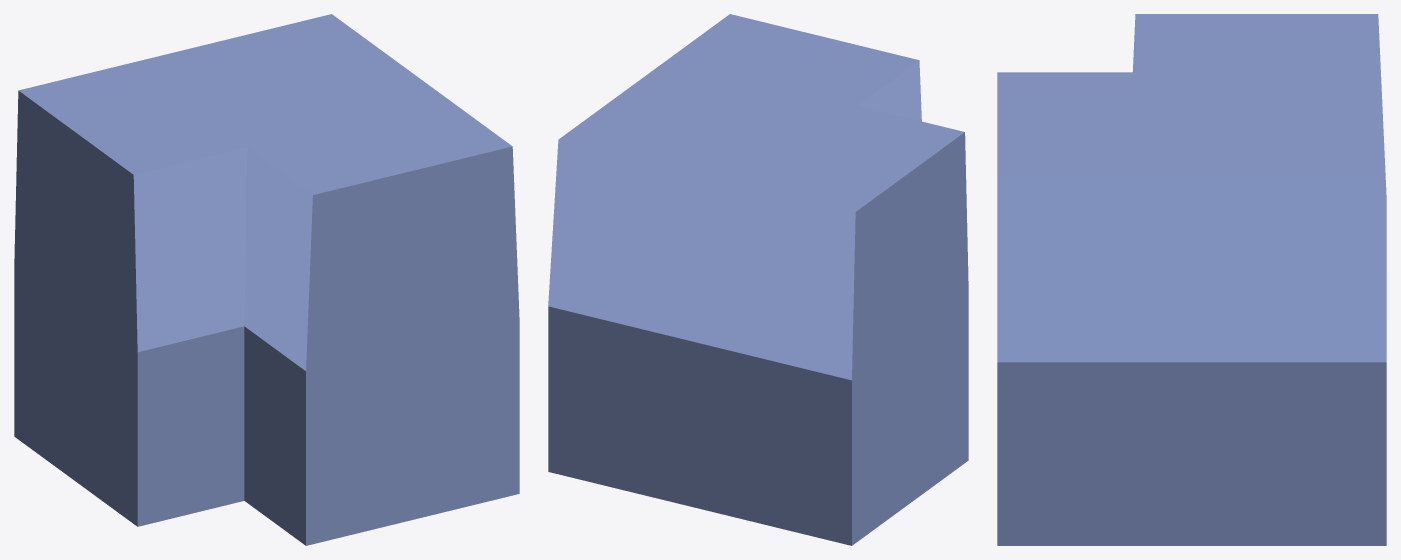
Rendered from tile-cliff-turn.glb.
3 views of the same model, side by side, from view 1: azimuth 30°, elevation 25°; view 2: azimuth 150°, elevation 25°; view 3: azimuth 270°, elevation 25° (orthographic). The views are drawn at different scales.
Parts seen in each view (by area): view 1: tiles-cliff_turn; view 2: tiles-cliff_turn; view 3: tiles-cliff_turn.
Part boxes in pixels (box(x1,y1,x2,y2)): tiles-cliff_turn: box(14, 14, 519, 545); tiles-cliff_turn: box(548, 14, 968, 545); tiles-cliff_turn: box(997, 14, 1386, 545).
Bounding box in the file's own units: 48 × 50 × 48.
